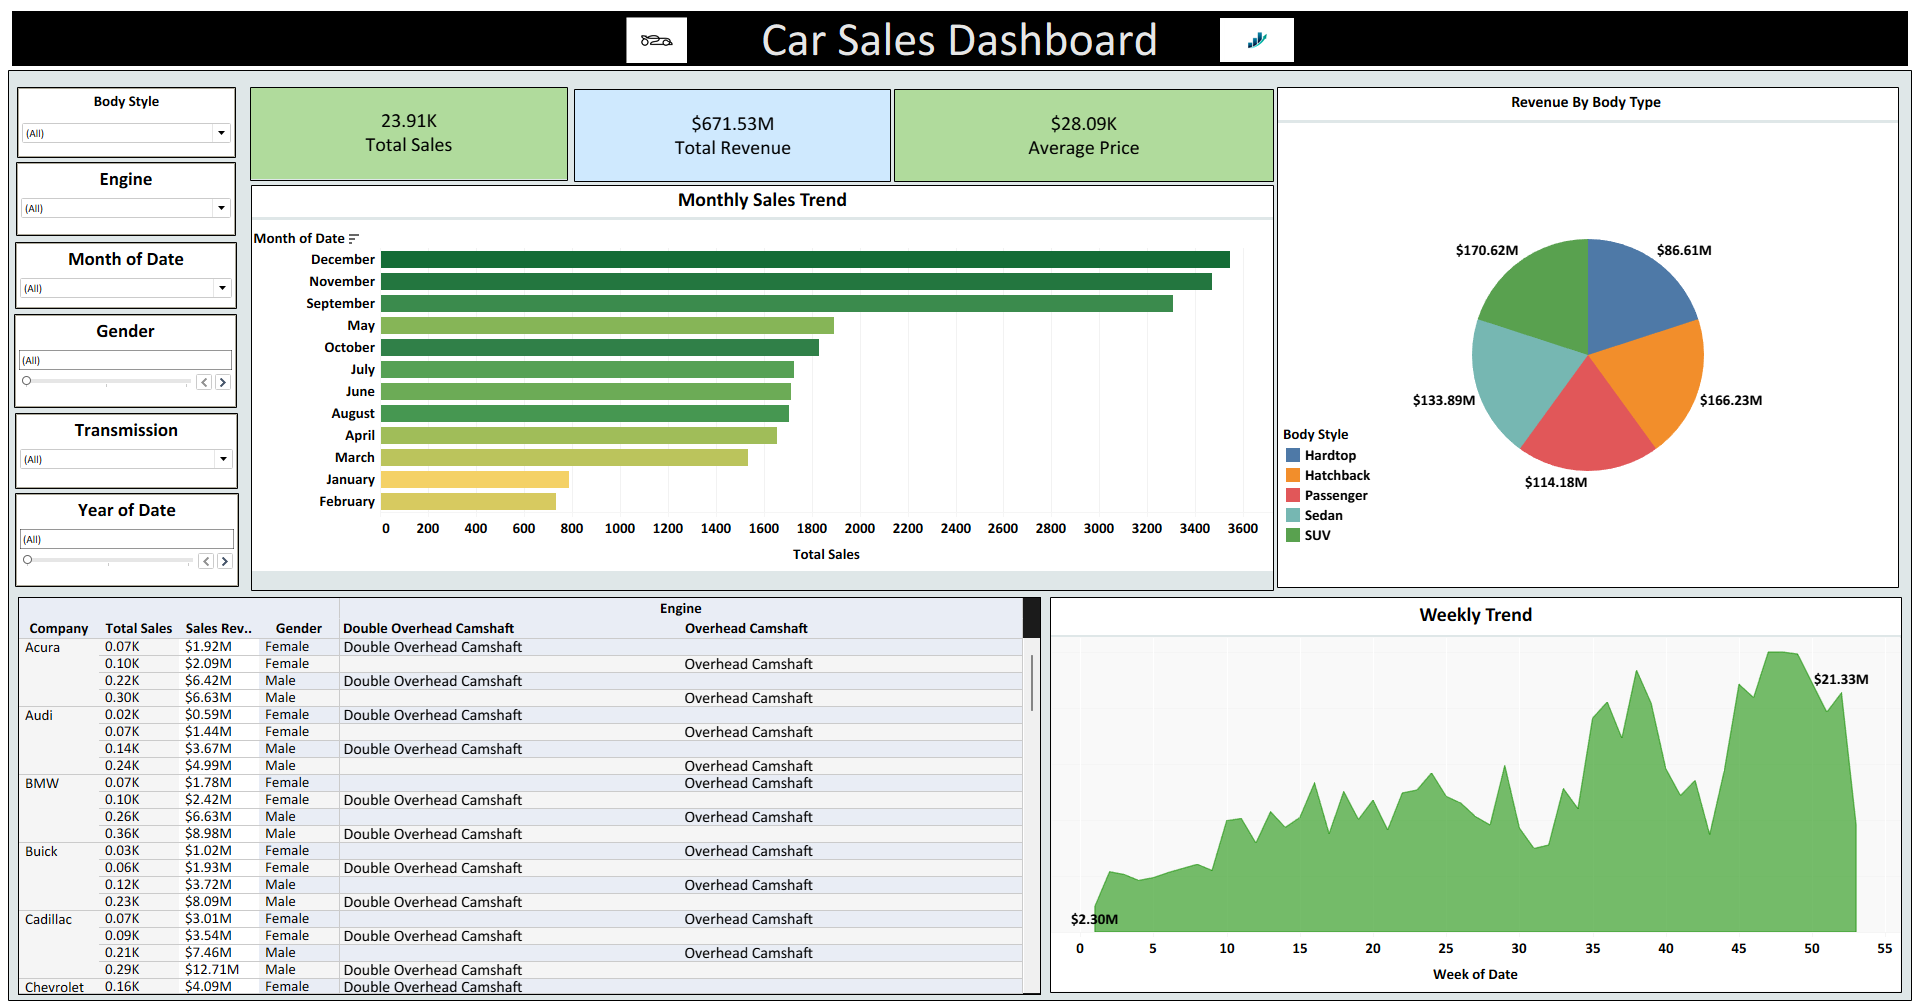

This screenshot's page, from the dashboard's own definition file:
{"tool":"tableau","page":{"name":"Dashboard 1","canvas":[1000,1000],"units":"permille","ordinal":0},"visuals":[{"type":"title","box":[4.7,9.3,990.6,73.6]},{"type":"image","param":"C:/Users/katka/Downloads/7d7a11afa1b49f627c2536e3afd59fbf.jpg","box":[325.9,17.5,39.2,45.6]},{"type":"image","param":"C:/Users/katka/Downloads/istockphoto-1053291038-612x612.jpg","box":[635.5,18.7,38.6,43.2]},{"type":"image","box":[5.3,84.1,989.5,905.4]},{"type":"filter","title":"Montly_Sales_Trend","param":"[federated.12nehdl0nbdj4j13czyko0wg10zx].[none:Body Style:nk]","box":[8.8,87.6,113.9,70.1]},{"type":"worksheet","title":"Total_Sales","mark":"Automatic","box":[130.4,87.6,165.6,93.5]},{"type":"worksheet","title":"Revenue_By_BodyType","mark":"Pie","box":[665.3,87.6,324.1,496.5]},{"type":"worksheet","title":"Total_Revenue","mark":"Automatic","box":[298.9,88.8,165,92.3]},{"type":"worksheet","title":"Avg_Price","mark":"Automatic","box":[465.7,88.8,197.9,92.3]},{"type":"filter","title":"Montly_Sales_Trend","param":"[federated.12nehdl0nbdj4j13czyko0wg10zx].[none:Engine:nk]","box":[8.2,161.2,114.5,73.6]},{"type":"worksheet","title":"Montly_Sales_Trend","mark":"Bar","rows":["Date"],"cols":["Calculation_2529897147200143363"],"box":[130.9,184.6,532.6,401.9]},{"type":"filter","title":"Montly_Sales_Trend","param":"[federated.12nehdl0nbdj4j13czyko0wg10zx].[mn:Date:ok]","box":[7.6,240.7,115.7,66.6]},{"type":"filter","title":"Montly_Sales_Trend","param":"[federated.12nehdl0nbdj4j13czyko0wg10zx].[none:Gender:nk]","box":[7,311.9,116.3,93.5]},{"type":"filter","title":"Montly_Sales_Trend","param":"[federated.12nehdl0nbdj4j13czyko0wg10zx].[none:Transmission:nk]","box":[7.6,410.1,116.3,74.8]},{"type":"legend","title":"Revenue_By_BodyType","param":"[federated.12nehdl0nbdj4j13czyko0wg10zx].[none:Body Style:nk]","box":[668.2,421.7,76.9,141.4]},{"type":"filter","title":"Montly_Sales_Trend","param":"[federated.12nehdl0nbdj4j13czyko0wg10zx].[yr:Date:ok]","box":[7.6,489.5,116.9,93.5]},{"type":"worksheet","title":"Table","mark":"Automatic","rows":["Company","Calculation_2529897147200143363","Calculation_2529897147199901698","Gender"],"cols":["Engine"],"box":[9.4,592.3,532.6,393.7]},{"type":"worksheet","title":"Weekly_Trend","mark":"Area","rows":["Calculation_2529897147199901698"],"cols":["Date"],"box":[546.7,592.3,443.9,392.5]}]}

Visuals, with their boxes on the dashboard's canvas, which has no fixed pixel size, in thousandths of its width and height (x1, y1, x2, y2). These are canvas units, not pixel positions in the 1914x1002 screenshot, which may show the page scaled, cropped or inside an application window:
title: l=5, t=9, r=995, b=83
image: l=326, t=18, r=365, b=63
image: l=636, t=19, r=674, b=62
image: l=5, t=84, r=995, b=990
"Montly_Sales_Trend" filter: l=9, t=88, r=123, b=158
"Total_Sales" worksheet: l=130, t=88, r=296, b=181
"Revenue_By_BodyType" worksheet (Pie marks): l=665, t=88, r=989, b=584
"Total_Revenue" worksheet: l=299, t=89, r=464, b=181
"Avg_Price" worksheet: l=466, t=89, r=664, b=181
"Montly_Sales_Trend" filter: l=8, t=161, r=123, b=235
"Montly_Sales_Trend" worksheet (Bar marks): l=131, t=185, r=664, b=586
"Montly_Sales_Trend" filter: l=8, t=241, r=123, b=307
"Montly_Sales_Trend" filter: l=7, t=312, r=123, b=405
"Montly_Sales_Trend" filter: l=8, t=410, r=124, b=485
"Revenue_By_BodyType" legend: l=668, t=422, r=745, b=563
"Montly_Sales_Trend" filter: l=8, t=490, r=124, b=583
"Table" worksheet: l=9, t=592, r=542, b=986
"Weekly_Trend" worksheet (Area marks): l=547, t=592, r=991, b=985
